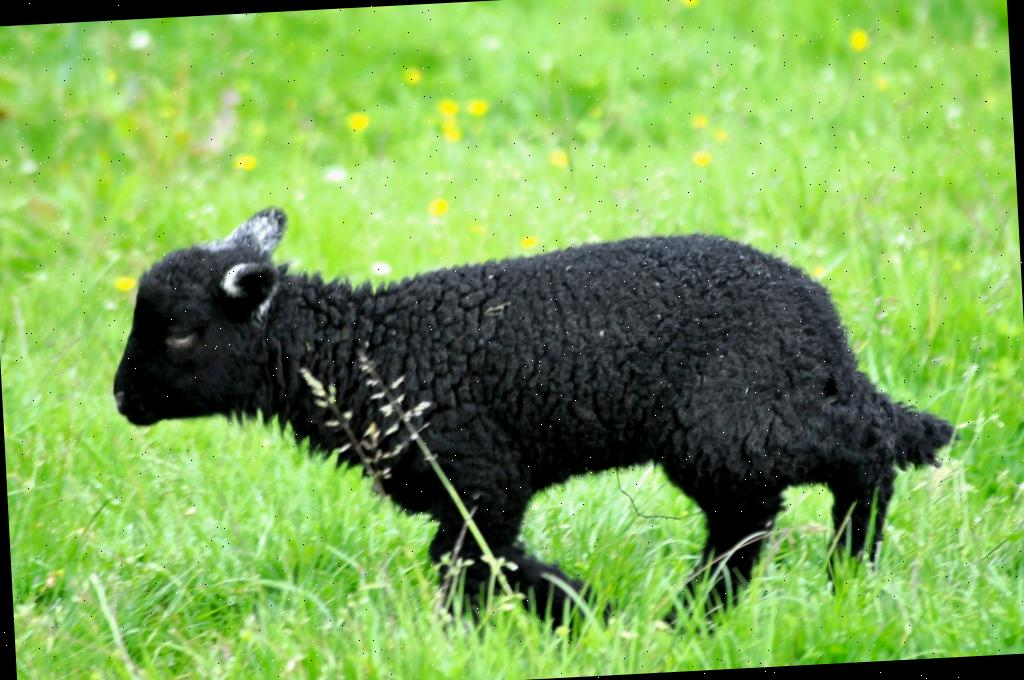Sheep: (106, 174, 970, 678)
